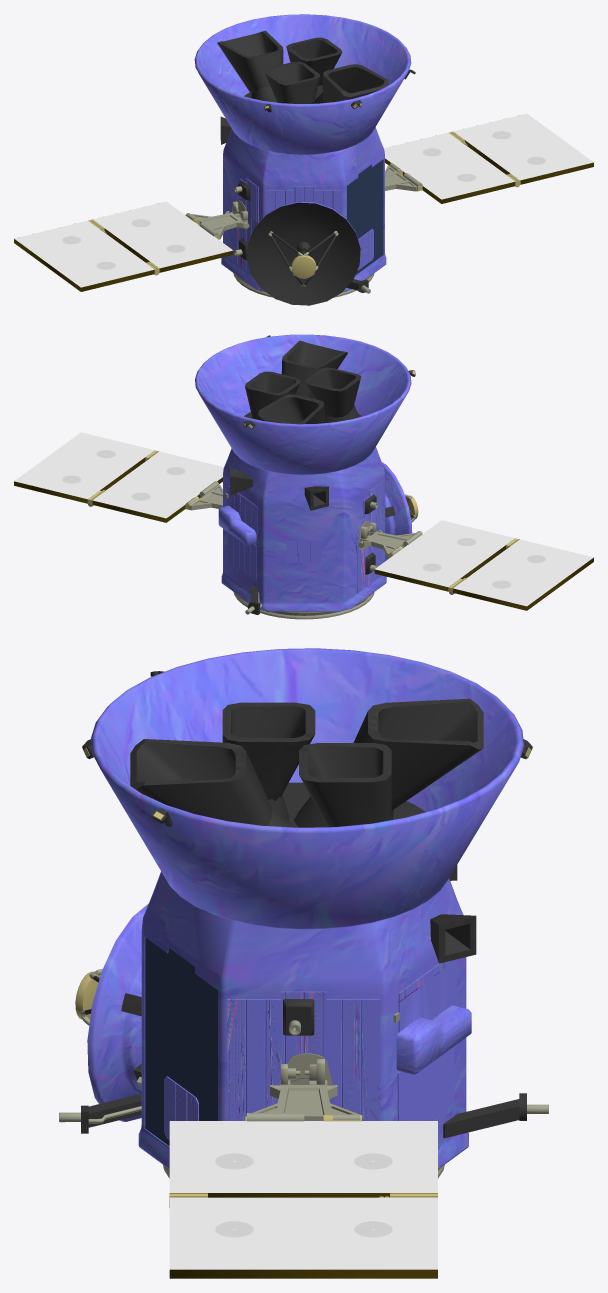
Rendered from tess.glb.
3 renders of one model, top to bottom at view 1: azimuth 30°, elevation 25°; view 2: azimuth 150°, elevation 25°; view 3: azimuth 270°, elevation 25°, orthographic. The views are drawn at different scales.
Parts seen in each view (by area): view 1: instruments, BUS, reflectors; view 2: BUS, instruments, reflectors; view 3: BUS, instruments, reflectors.
Boxes of the visible parts, bbox=[...] form: instruments: bbox=[14, 30, 593, 305]; BUS: bbox=[194, 14, 411, 291]; reflectors: bbox=[233, 178, 373, 275]; BUS: bbox=[195, 334, 412, 611]; instruments: bbox=[14, 335, 593, 619]; reflectors: bbox=[228, 482, 382, 593]; BUS: bbox=[87, 648, 523, 1169]; instruments: bbox=[59, 671, 548, 1278]; reflectors: bbox=[164, 959, 456, 1140].
Size of the model in its own units: 7.39 by 3.1 by 3.06.
Materials: 5 (3 with a texture image).
